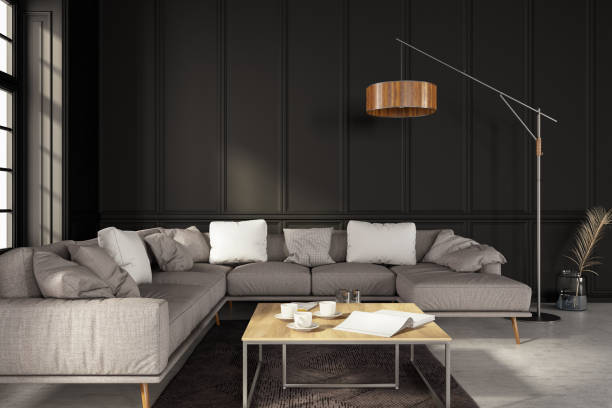floor lamp: (363, 30, 564, 325)
sofa: (0, 217, 534, 408)
table: (238, 297, 454, 408)
